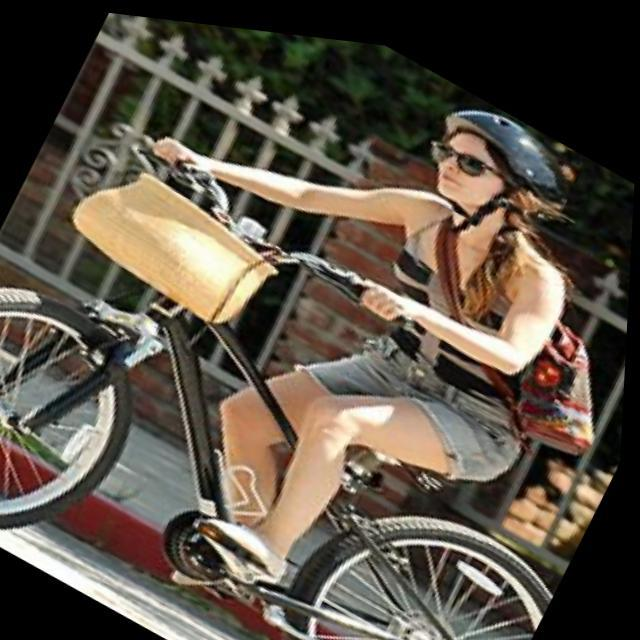Helmet: (417, 92, 570, 241)
